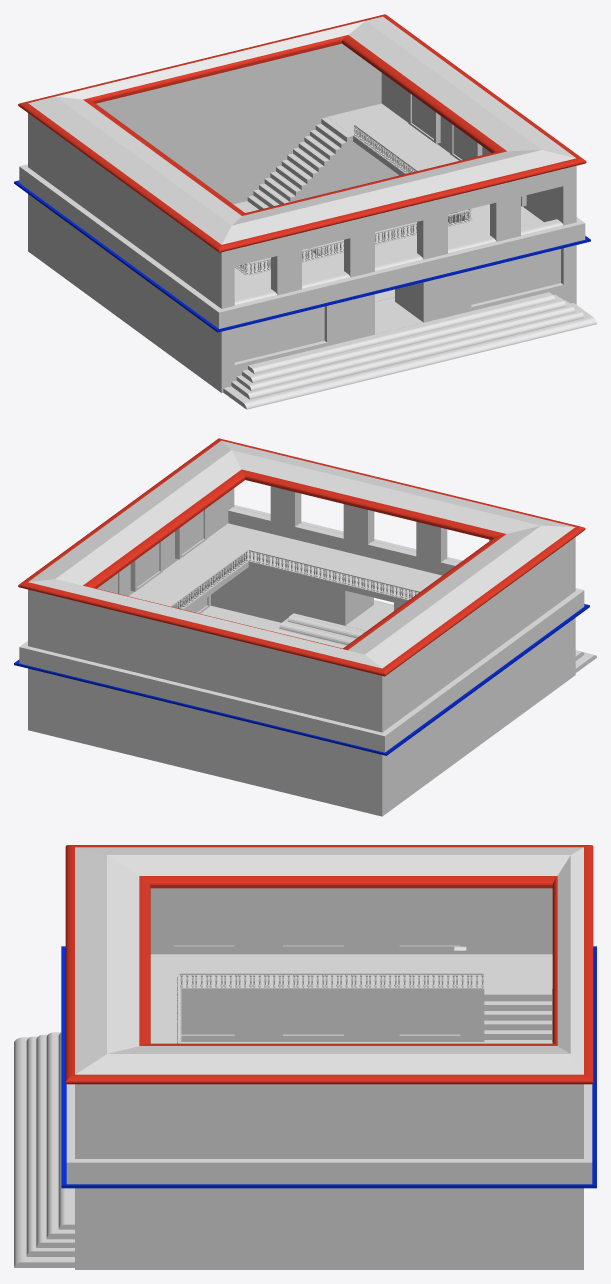
File: 2DdrawRoom.fbx
3 renders of one model, top to bottom at view 1: azimuth 30°, elevation 25°; view 2: azimuth 150°, elevation 25°; view 3: azimuth 270°, elevation 25°, orthographic. The views are drawn at different scales.
Visible parts, largest first — view 1: transform1, transform1.001, transform1.016, transform1.011; view 2: transform1, transform1.002, transform1.012, transform1.011; view 3: transform1, transform1.001, transform1.018, transform1.020, transform1.019, transform1.023, transform1.022, transform1.021.
Part boxes in pixels (x1,y1,x2,y2): transform1: (14,14,590,392); transform1.001: (223,292,596,409); transform1.016: (408,92,440,143); transform1.011: (450,123,482,160); transform1: (14,438,589,816); transform1.002: (273,613,366,648); transform1.012: (175,508,207,559); transform1.011: (130,540,162,591); transform1: (61,845,596,1269); transform1.001: (14,1032,74,1267); transform1.018: (167,888,240,948); transform1.020: (393,888,466,948); transform1.019: (277,888,349,948); transform1.023: (393,996,466,1037); transform1.022: (277,996,349,1037); transform1.021: (181,996,240,1037).
Bounding box in the file's own units: 3296 × 1293 × 3392.
